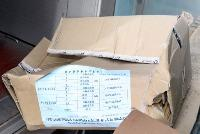damaged package: (5, 20, 90, 73), (150, 89, 172, 124)
undamaged: (3, 11, 194, 132)
